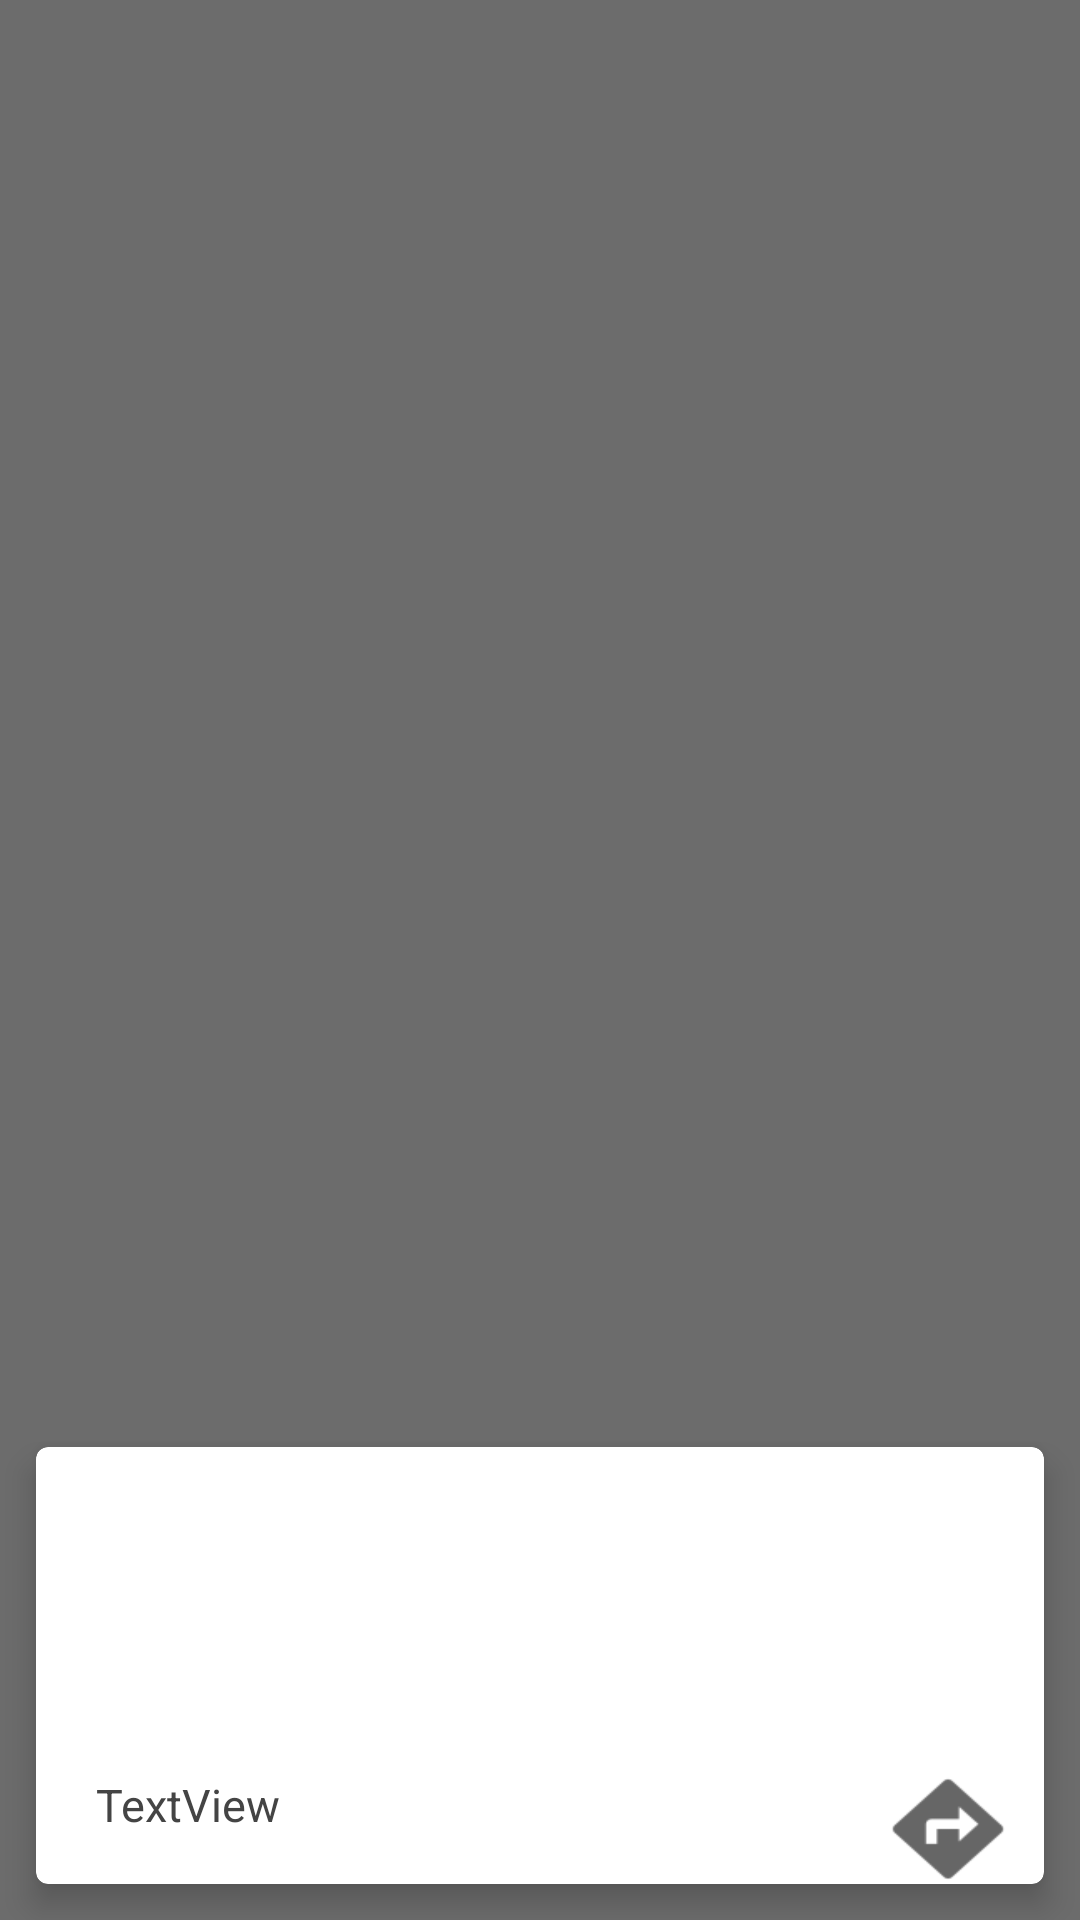

Point at icon controls on the screen. Image size 1080px x 1920px, points as point (x, y).
directions: point (948, 1829)
